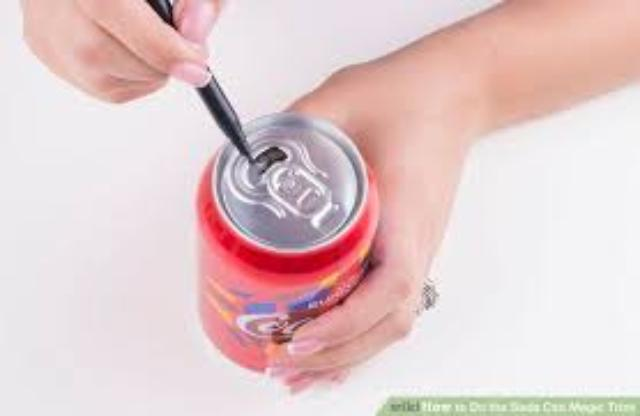metal: (196, 111, 373, 366)
